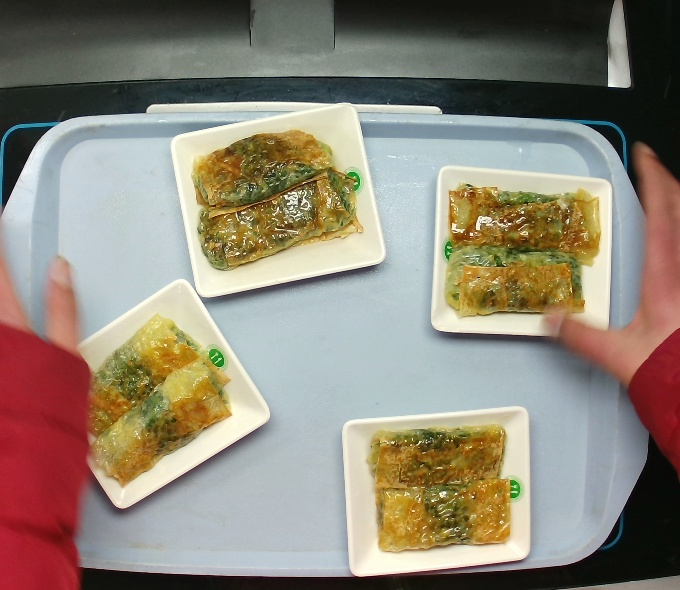wcq-CaiBao: (58, 294, 249, 493), (420, 168, 605, 334), (182, 113, 367, 279), (352, 413, 536, 562)
